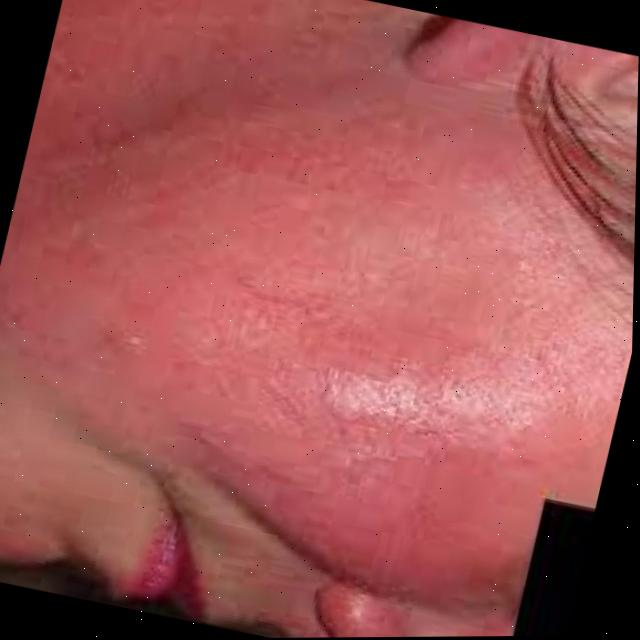Rosacea: (158, 241, 551, 585)
